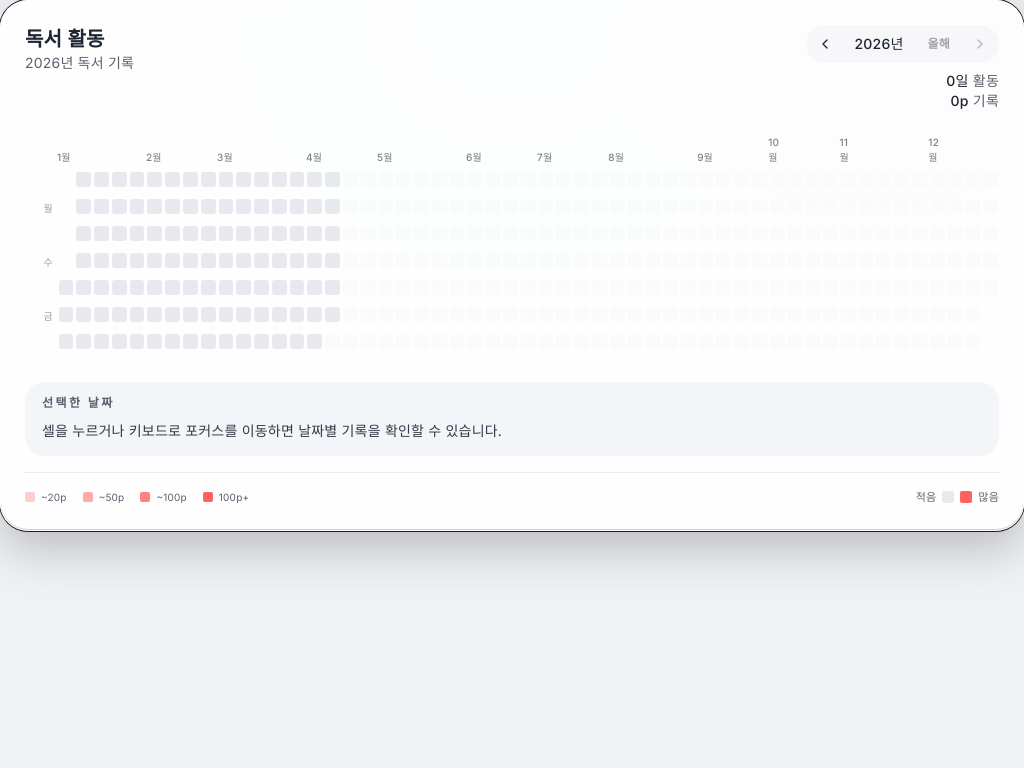
ReadingHeatmap › adds a shortcut button to return to the current year
Click the button named "이전 연도".
click(824, 44)  # box [810,30,838,58]
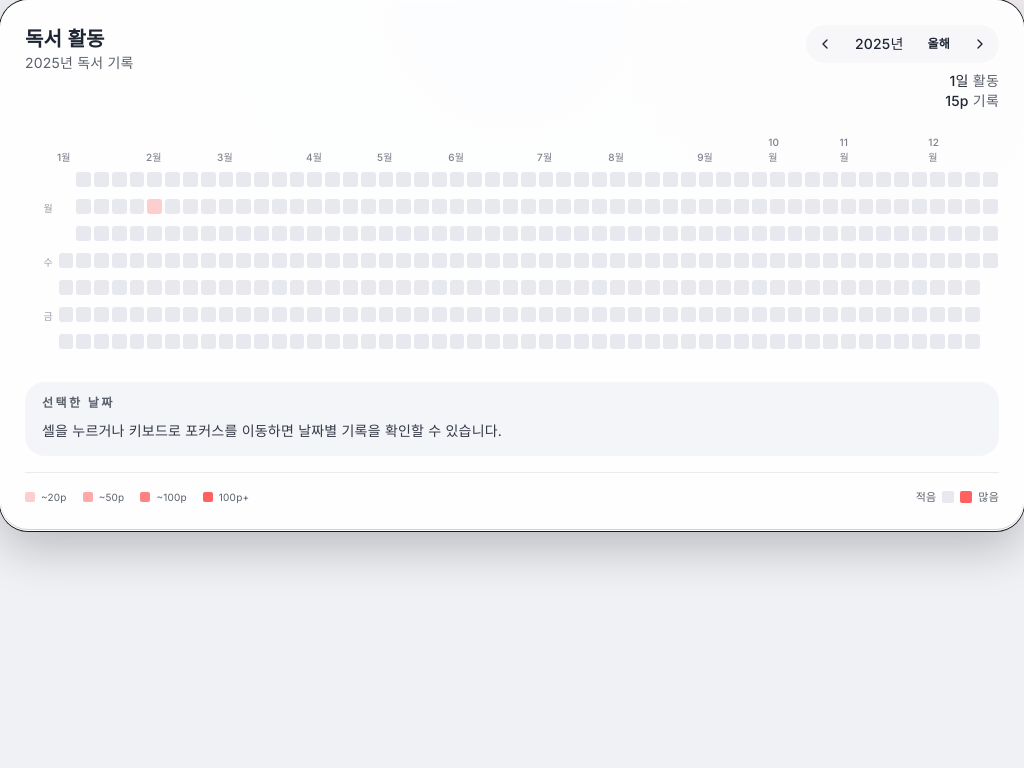
Expected: the text "2025년 독서 기록" is shown, [25,53,134,73]
Click the button with aria-label "현재 연도로 이동".
click(939, 44)  # box [920,30,958,58]
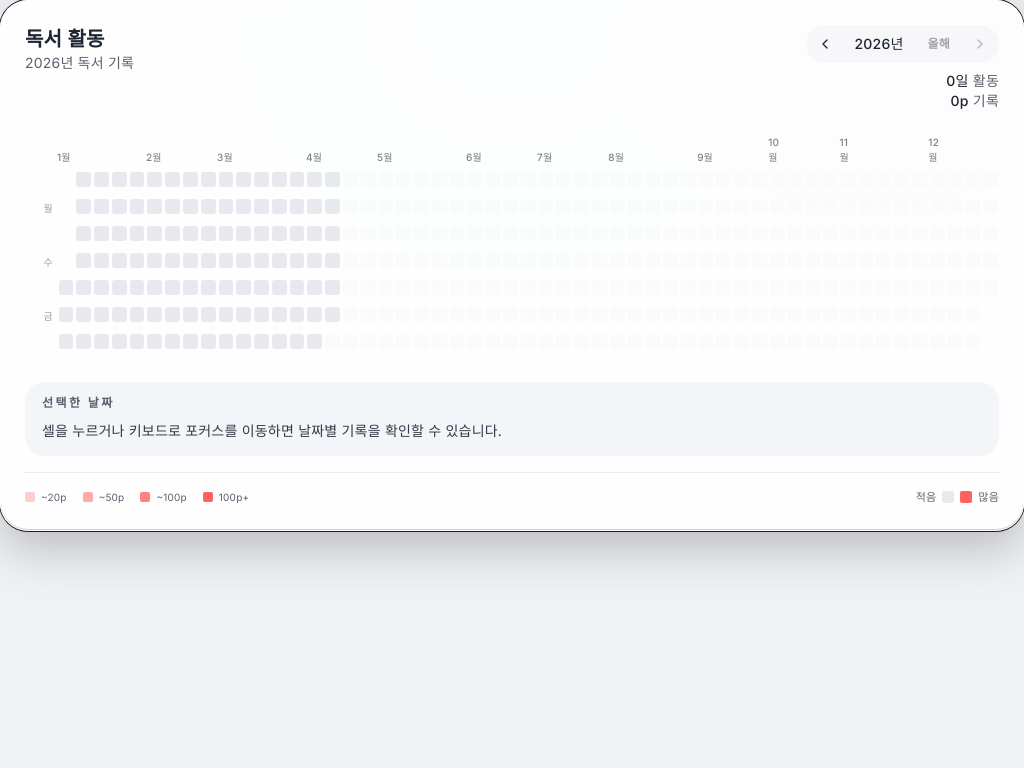
Expected: the text "2026년 독서 기록" is shown, [25,53,134,73]
